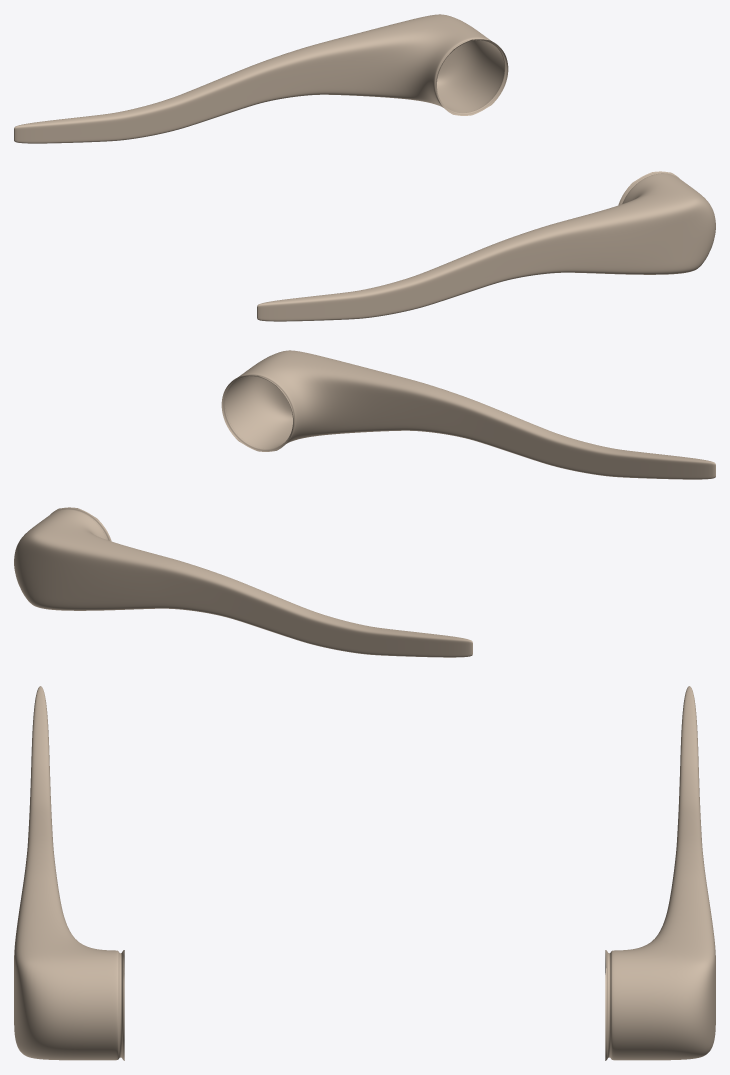
File: door handle.fbx
The picture shows the model from 3 angles, top to bottom: view 1: azimuth 30°, elevation 25°; view 2: azimuth 150°, elevation 25°; view 3: azimuth 270°, elevation 25°; orthographic projection. The views are drawn at different scales.
Parts seen in each view (by area): view 1: Plane.004; view 2: Plane.004; view 3: Plane.004.
Boxes of the visible parts, bbox=[...] form: Plane.004: bbox=[14, 14, 715, 321]; Plane.004: bbox=[14, 350, 715, 657]; Plane.004: bbox=[14, 686, 715, 1060].
Size of the model in its own units: 297 by 46.34 by 292.
